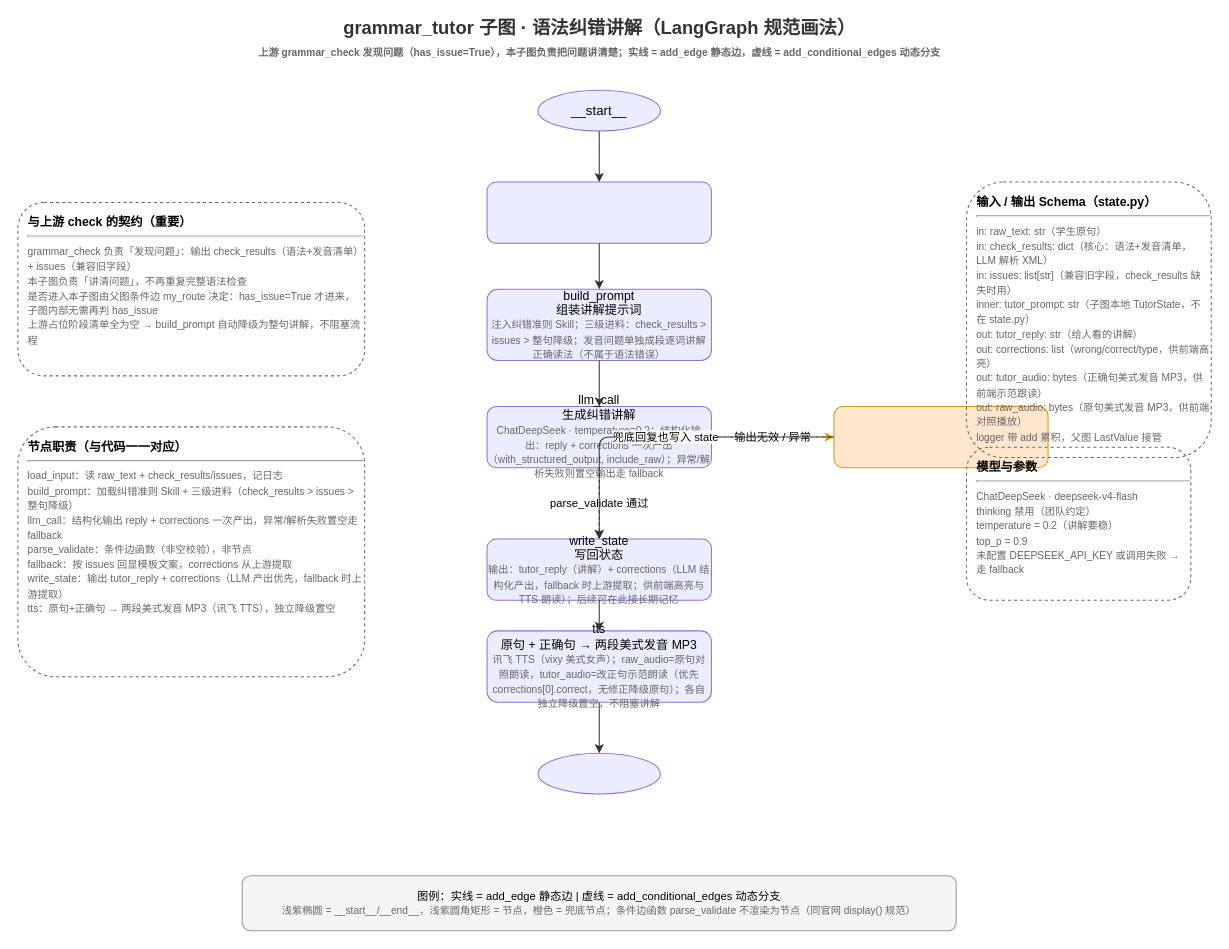
Image size: 1229x949. Some labels were removed from this diagram. The centre of each missing label's shape, as x and y in pixels:
"__end__" goes at (x=598, y=773).
"fallback 模板兜底 按 issues 逐条回显模板文案；corrections 照常提取，前端数据不断供" goes at (x=940, y=436).
"load_input 读取上游结果 输入：raw_text（原句）, check_results / issues（可空）" goes at (x=598, y=212).
